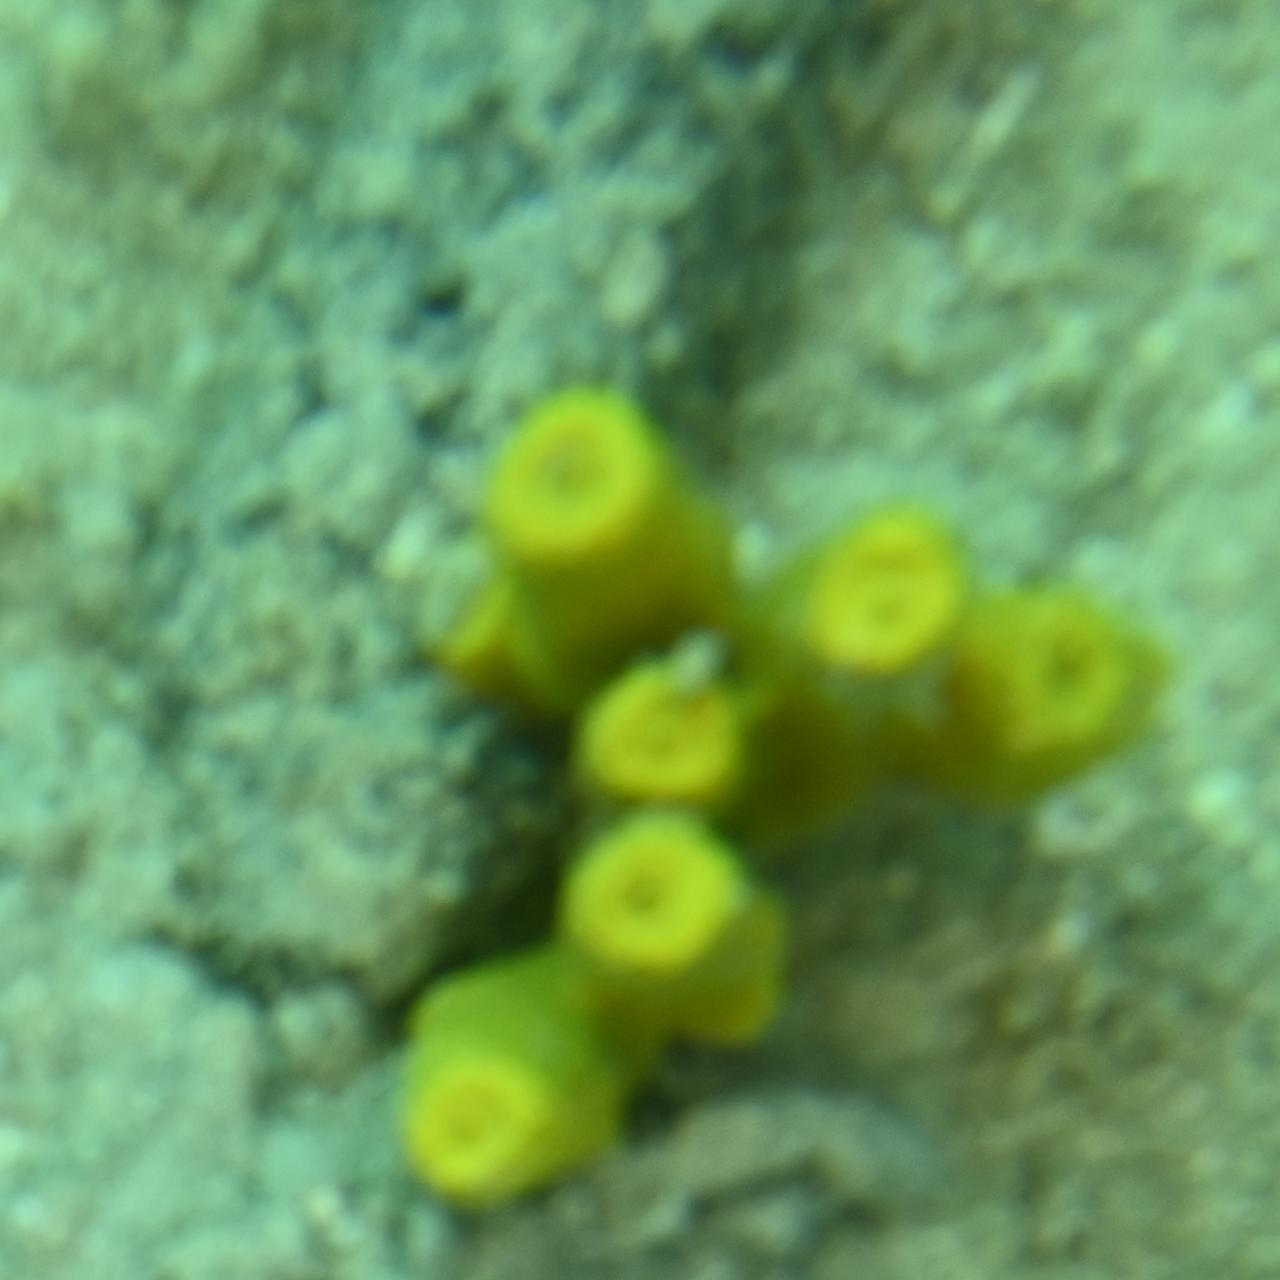Aplysina aerophoba: (416, 376, 1157, 1205)
Holothuria tubulosa: (123, 0, 865, 1001)
